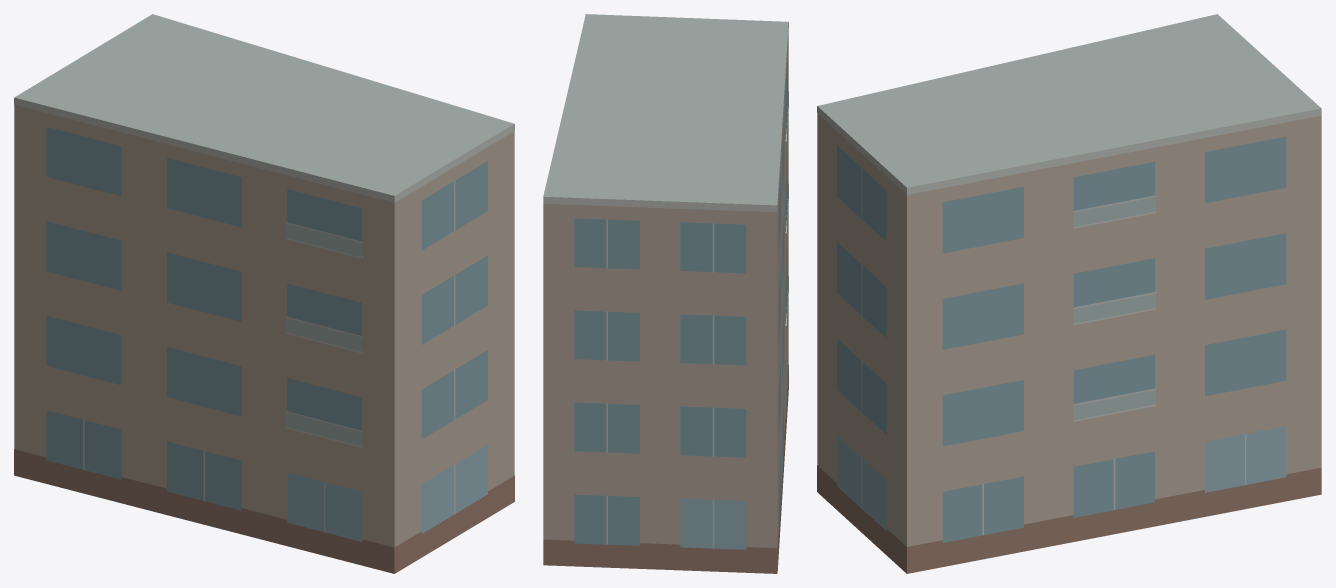
File: survey-upis-32738973.glb
3 renders of one model, left to right at view 1: azimuth 30°, elevation 25°; view 2: azimuth 150°, elevation 25°; view 3: azimuth 270°, elevation 25°, orthographic. The views are drawn at different scales.
Visible parts, largest first — view 1: survey-upis-32738973.tmp; view 2: survey-upis-32738973.tmp; view 3: survey-upis-32738973.tmp.
Boxes of the visible parts, <box> form: survey-upis-32738973.tmp: <box>14,14,514,573</box>; survey-upis-32738973.tmp: <box>543,14,788,573</box>; survey-upis-32738973.tmp: <box>817,14,1321,573</box>.
Size of the model in its own units: 12.56 by 13 by 15.4.
